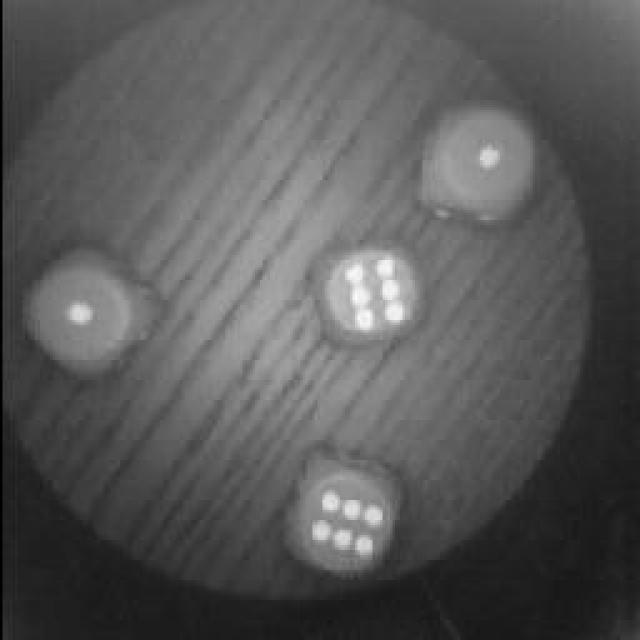dice_1: (12, 248, 158, 382), (408, 93, 542, 225)
dice_6: (285, 442, 405, 578), (308, 232, 430, 348)
